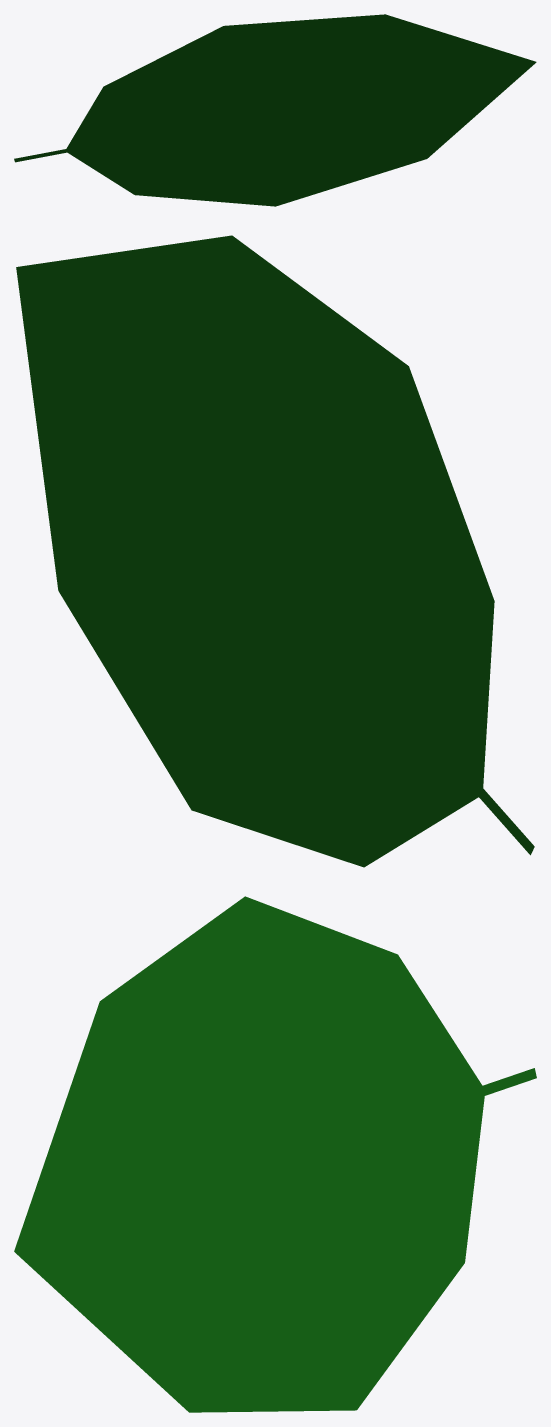
Rendered from Leaves.162.obj.
3 renders of one model, top to bottom at view 1: azimuth 30°, elevation 25°; view 2: azimuth 150°, elevation 25°; view 3: azimuth 270°, elevation 25°, orthographic. The views are drawn at different scales.
Parts seen in each view (by area): view 1: Leaves.162_leaves.162; view 2: Leaves.162_leaves.162; view 3: Leaves.162_leaves.162.
Part boxes in pixels (left/top/right/bottom): Leaves.162_leaves.162: left=14, top=14, right=536, bottom=206; Leaves.162_leaves.162: left=16, top=235, right=534, bottom=867; Leaves.162_leaves.162: left=14, top=896, right=536, bottom=1412.
Bounding box in the file's own units: 0.1269 × 0.071 × 0.0744.
